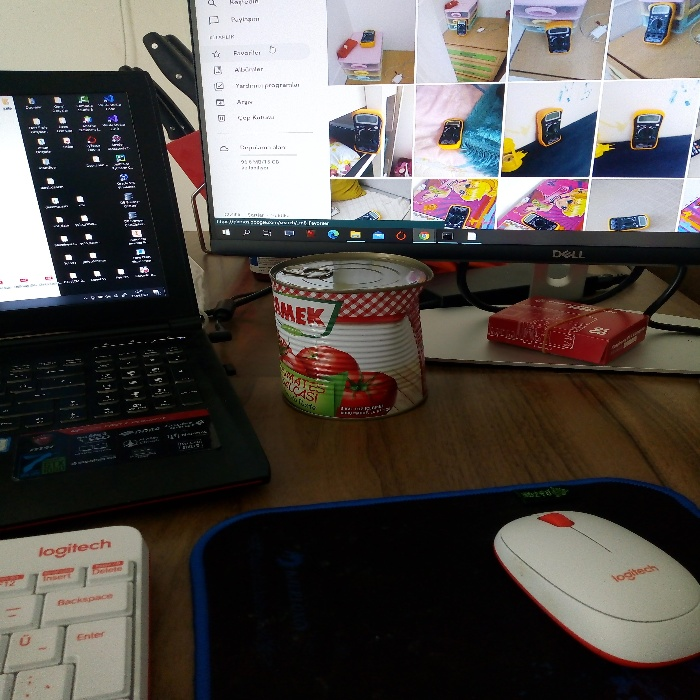salca: (261, 232, 453, 415)
